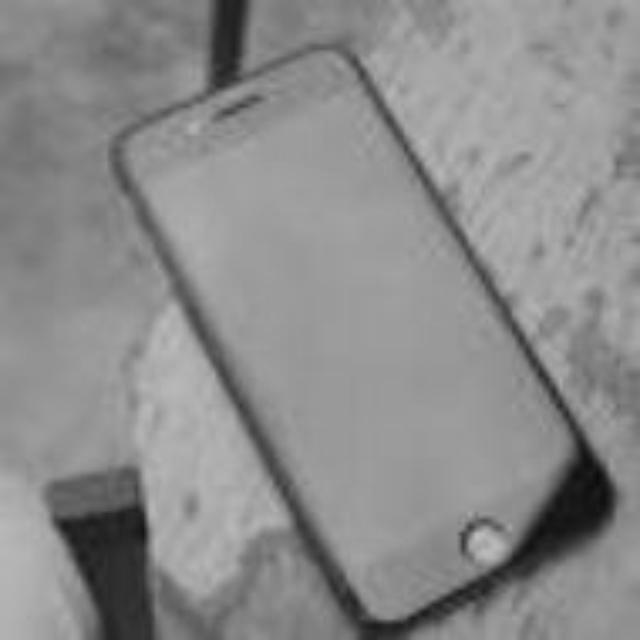fake: (105, 36, 619, 634)
